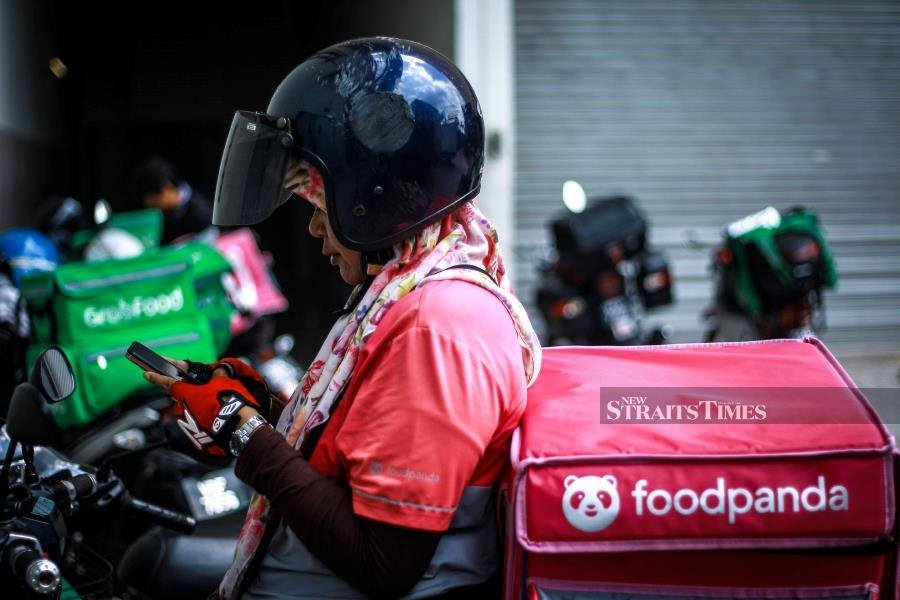su dung dien thoai: (122, 34, 469, 444)
